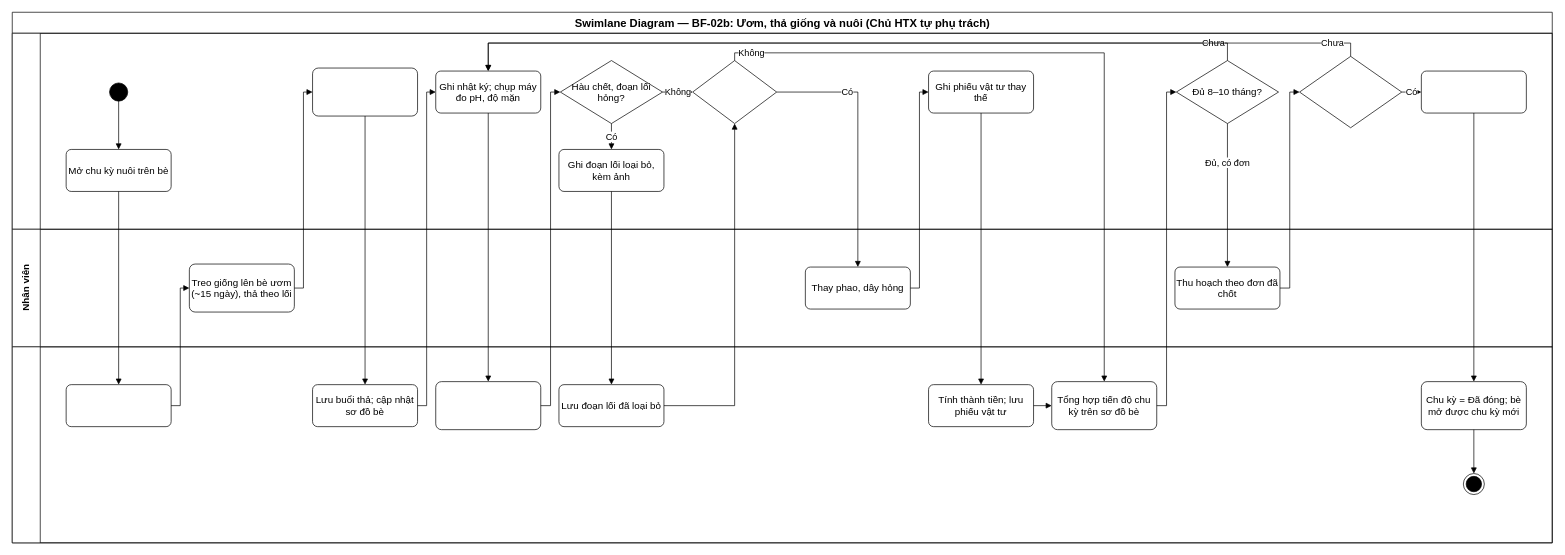
Image size: 1565x555. Some labels were removed from this diagram. The box of each missing label's shape, as (x1, y1, x2, y2) in pixels:
Chủ HTX: (12, 33, 1552, 229)
Ghi buổi thả: lối, đoạn đã thả, lô giống: (312, 67, 418, 116)
Hệ thống OMTS: (12, 346, 1552, 543)
Lưu chỉ số nước; vượt ngưỡng thì cảnh báo Chủ HTX: (435, 381, 541, 430)
Mọi đoạn lối đã thu hoặc loại bỏ?: (1299, 56, 1402, 128)
Phao, dây hỏng?: (692, 60, 777, 124)
Tạo chu kỳ; trạng thái = Đang mở: (65, 384, 171, 427)
Đóng chu kỳ: (1421, 70, 1526, 113)
